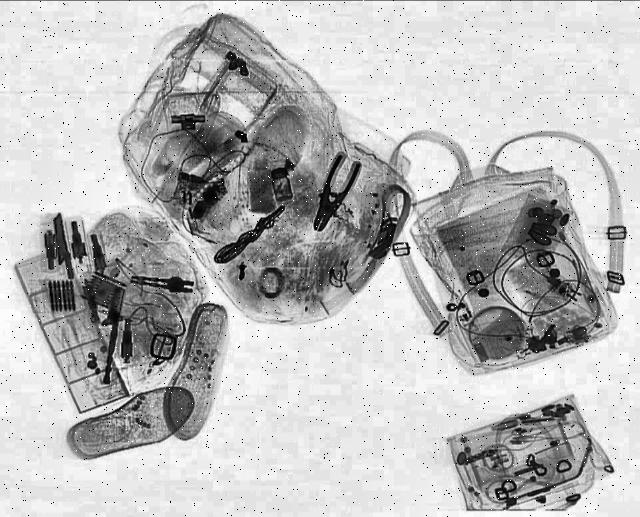Pliers: (303, 152, 367, 234)
